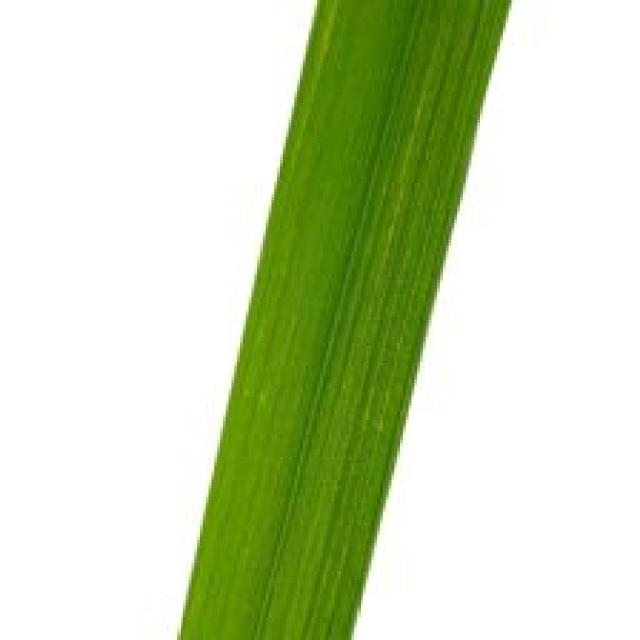Rice___Healthy_Rice_Plant: (176, 0, 515, 637)
